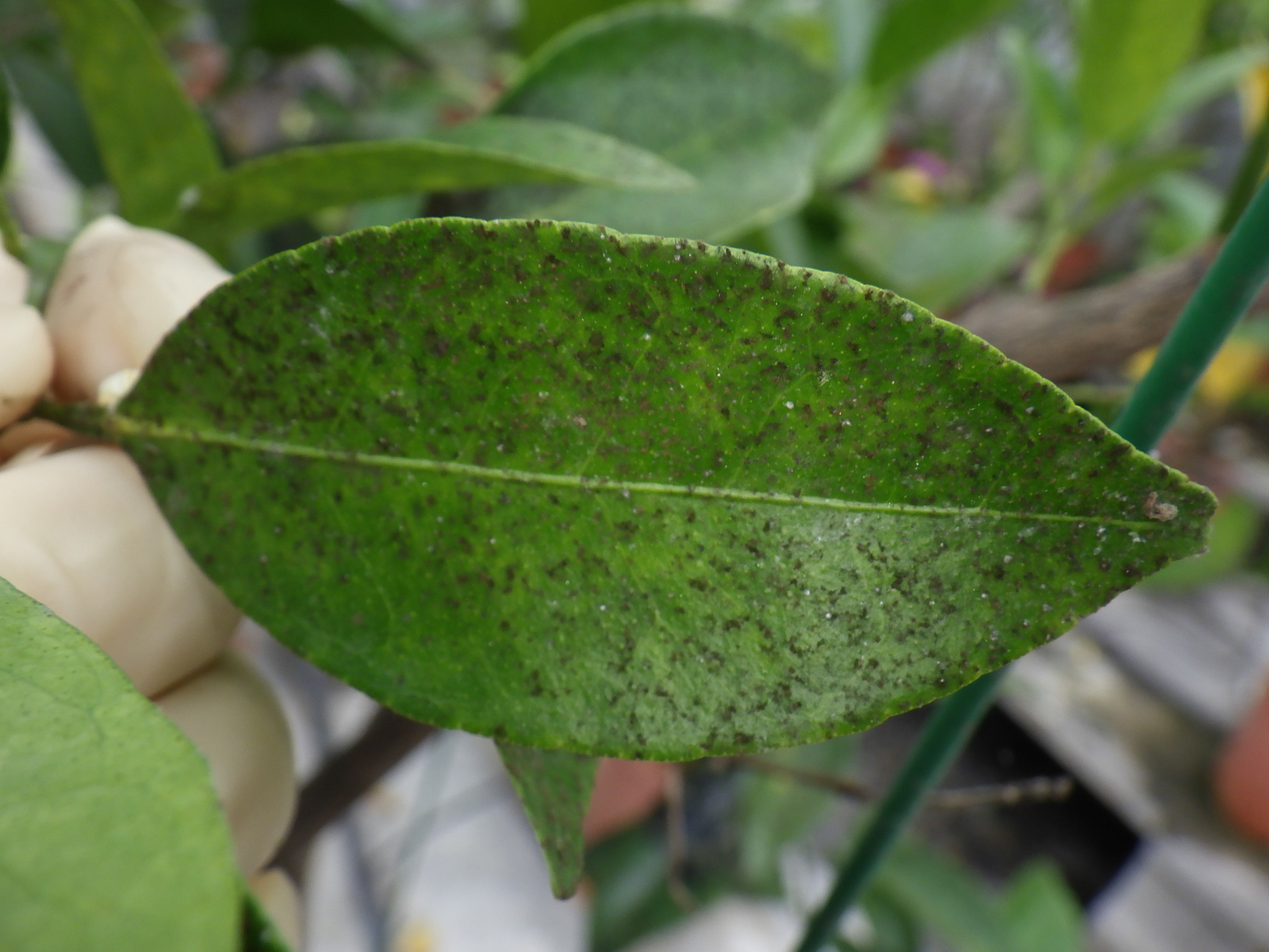Sooty_Mold: (80, 219, 1215, 759)
